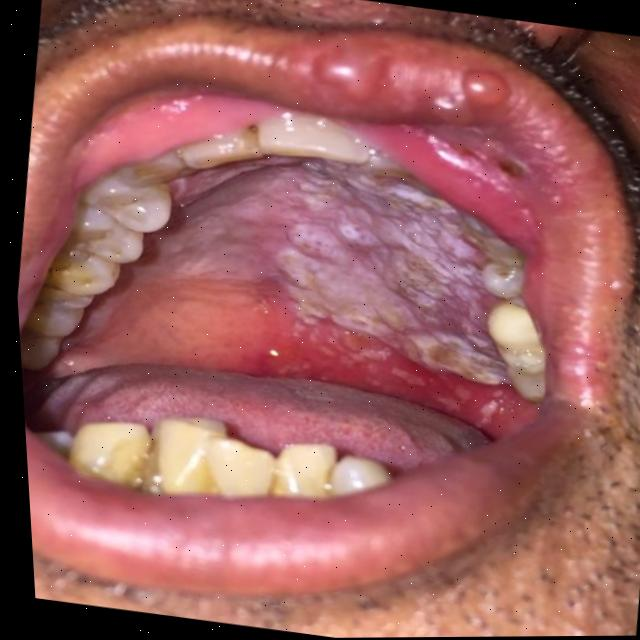Shingles: (274, 192, 480, 371), (298, 42, 375, 103), (464, 73, 515, 113)
